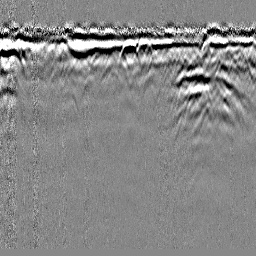cavity: (117, 38, 141, 64)
